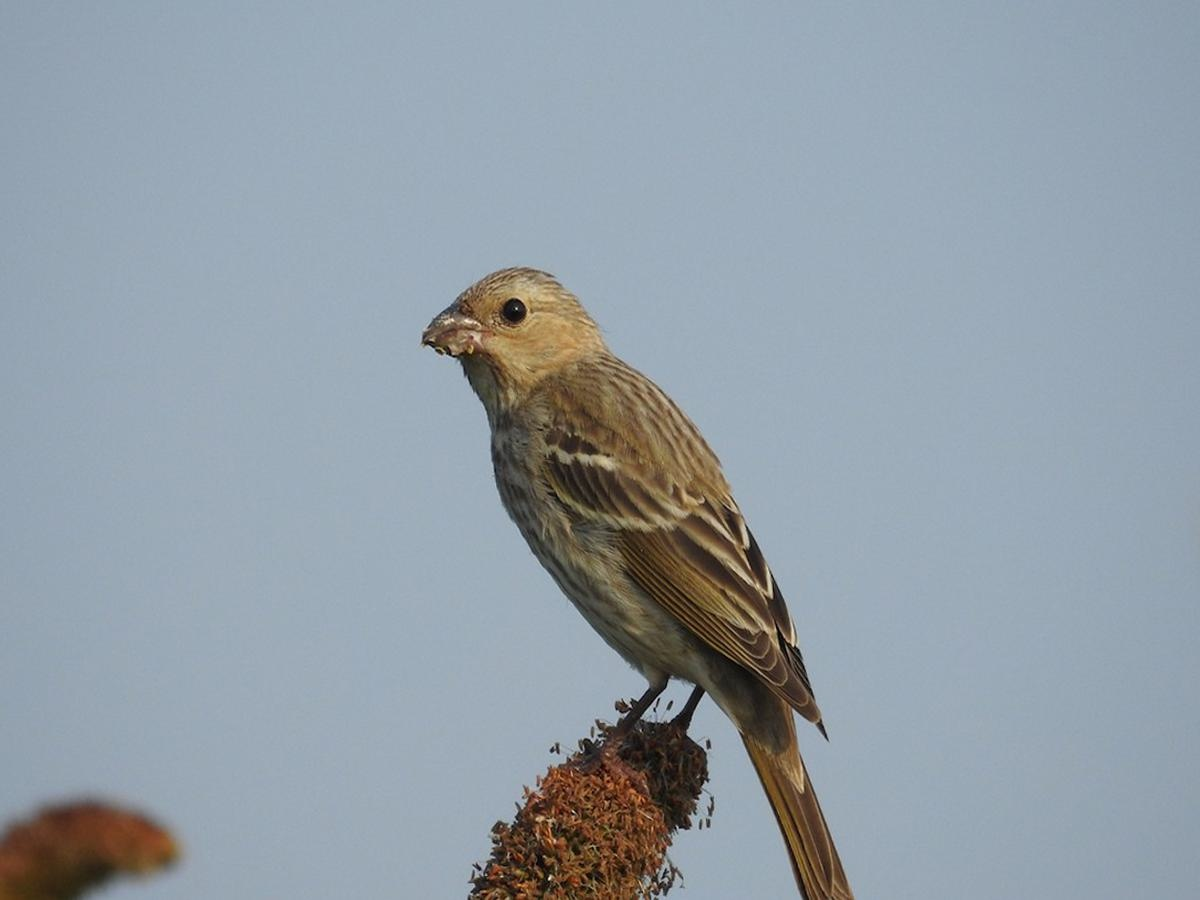rosefinch: (399, 242, 866, 851)
